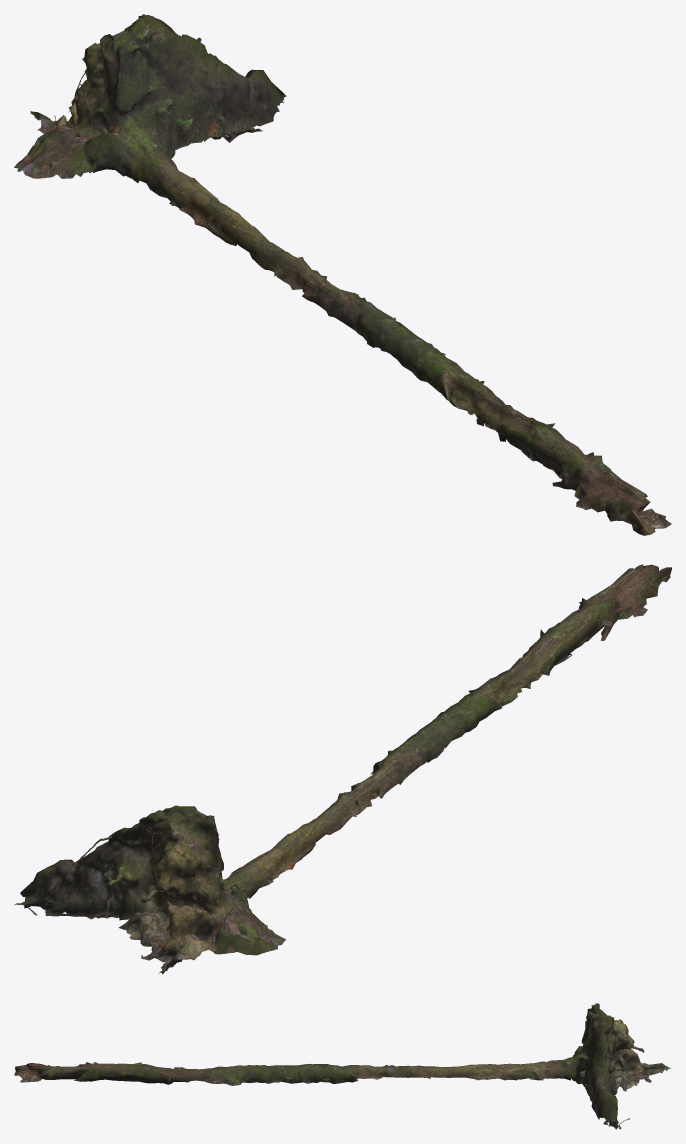
File: FallenTree.FBX
3 renders of one model, top to bottom at view 1: azimuth 30°, elevation 25°; view 2: azimuth 150°, elevation 25°; view 3: azimuth 270°, elevation 25°, orthographic. The views are drawn at different scales.
Parts seen in each view (by area): view 1: FallenTree_LOD0; view 2: FallenTree_LOD0; view 3: FallenTree_LOD0.
Boxes of the visible parts, x1,y1,x2,y2 form: FallenTree_LOD0: [14, 14, 671, 535]; FallenTree_LOD0: [14, 564, 671, 974]; FallenTree_LOD0: [14, 1003, 671, 1129].
Size of what is drawn, in the model's own units: 440 by 219 by 1608.
